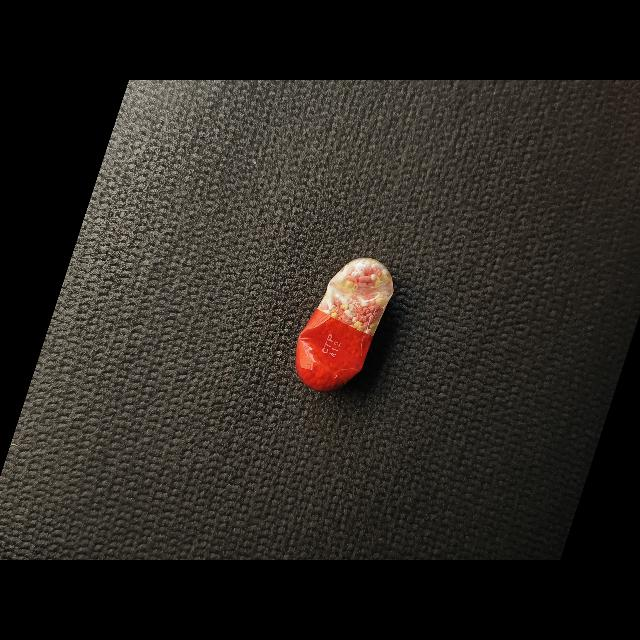Defective Capsule: (296, 258, 394, 392)
